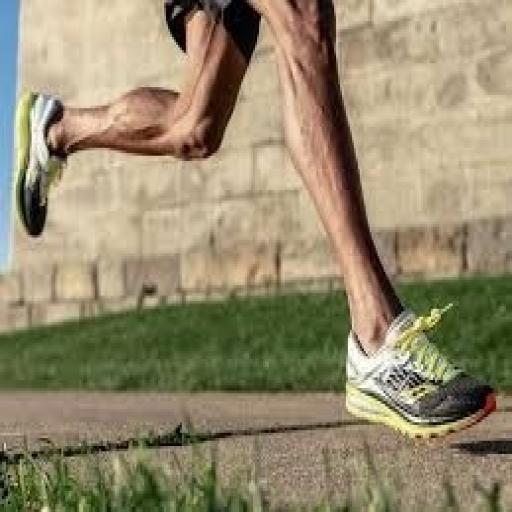running: (11, 0, 498, 443)
